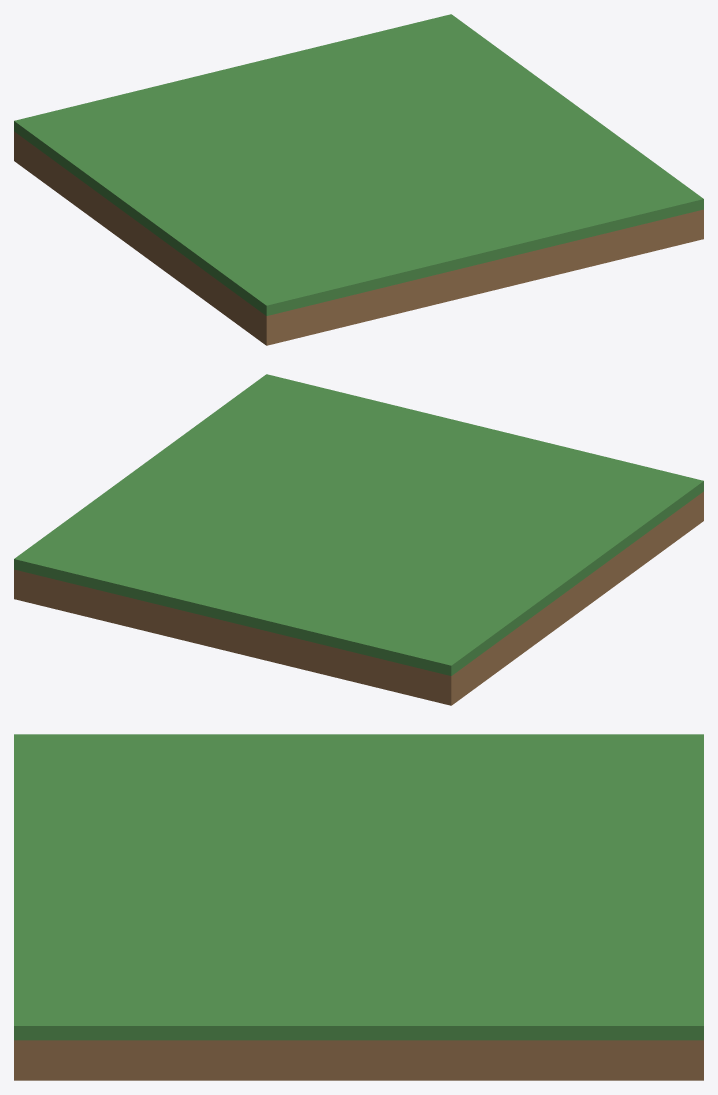
Rendered from Road_Base_01.fbx.
The picture shows the model from 3 angles, top to bottom: view 1: azimuth 30°, elevation 25°; view 2: azimuth 150°, elevation 25°; view 3: azimuth 270°, elevation 25°; orthographic projection. The views are drawn at different scales.
Parts seen in each view (by area): view 1: Road_Base_01; view 2: Road_Base_01; view 3: Road_Base_01.
Part boxes in pixels (bbox=[...]): Road_Base_01: bbox=[14, 14, 703, 345]; Road_Base_01: bbox=[14, 374, 703, 705]; Road_Base_01: bbox=[14, 734, 703, 1080].
Bounding box in the file's own units: 3754 × 329 × 3754.
